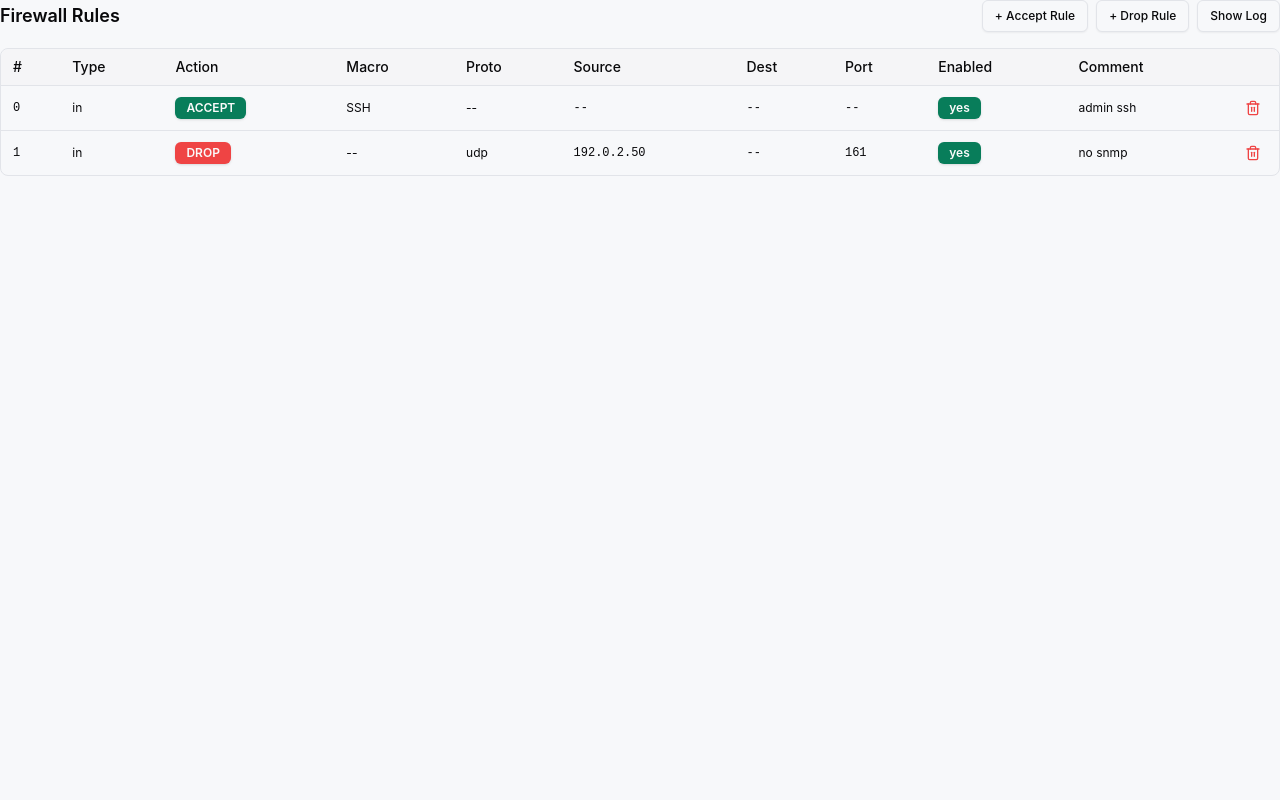
Scenario: NodeDetailPage Firewall tab — deleting a rule › Cancel sends nothing
What coordinates should you click on to do the following:
click the button named "Delete firewall rule 1"
I would click on:
 (1253, 153)
Its box is [1239, 139, 1267, 167].
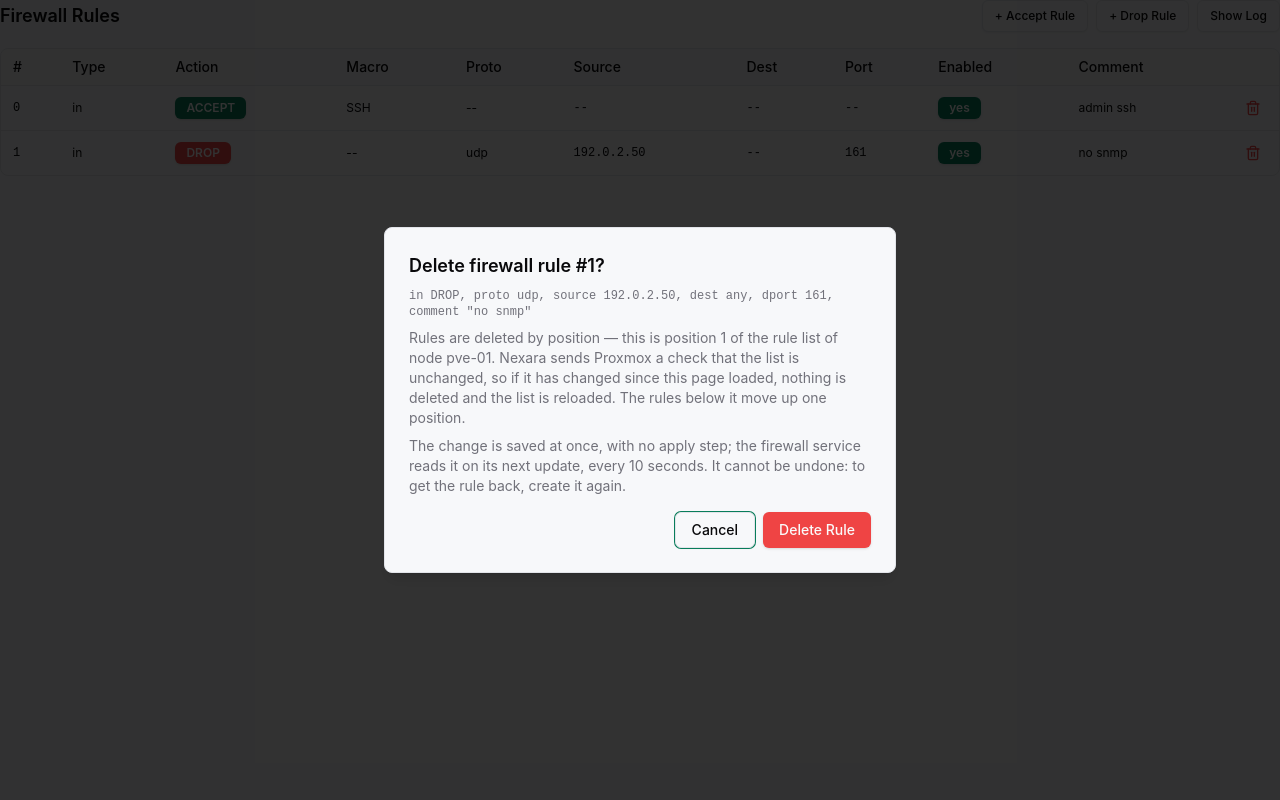
What coordinates should you click on to do the following:
click the button "Cancel"
I would click on:
 (715, 530)
Its box is [675, 512, 755, 548].
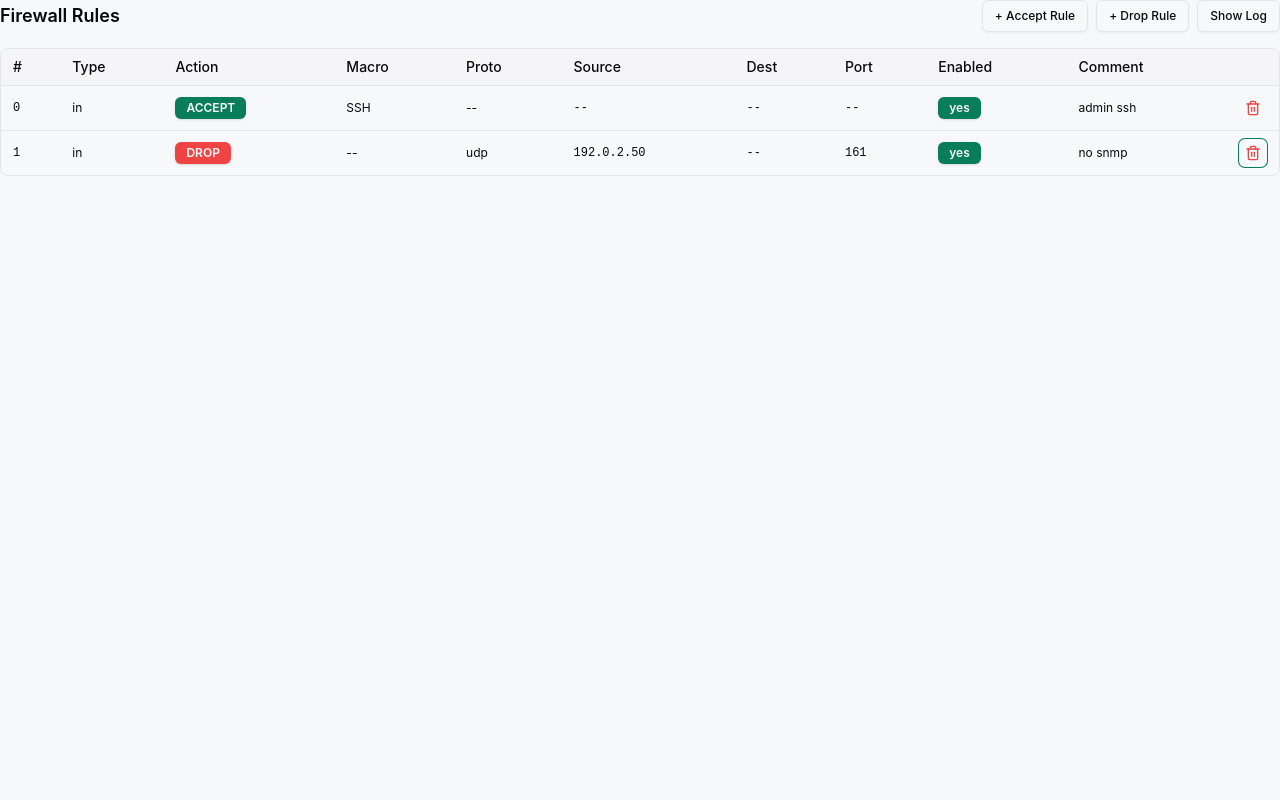
Result: the dialog is gone
